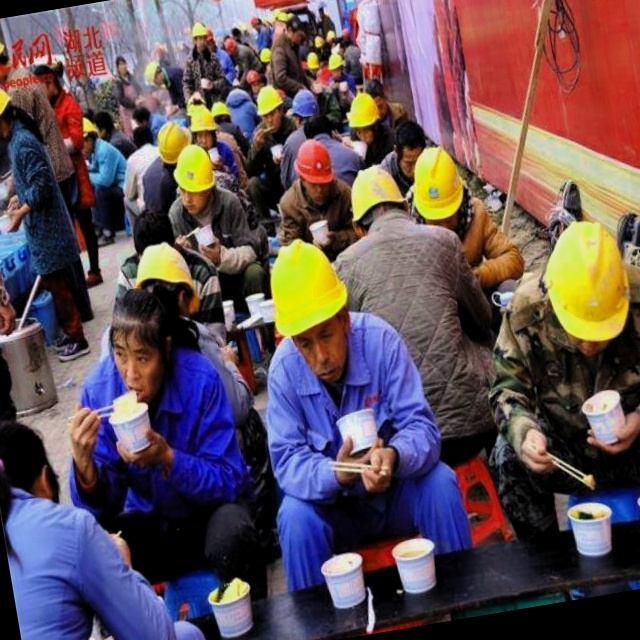Con_Casco: (262, 231, 361, 382)
